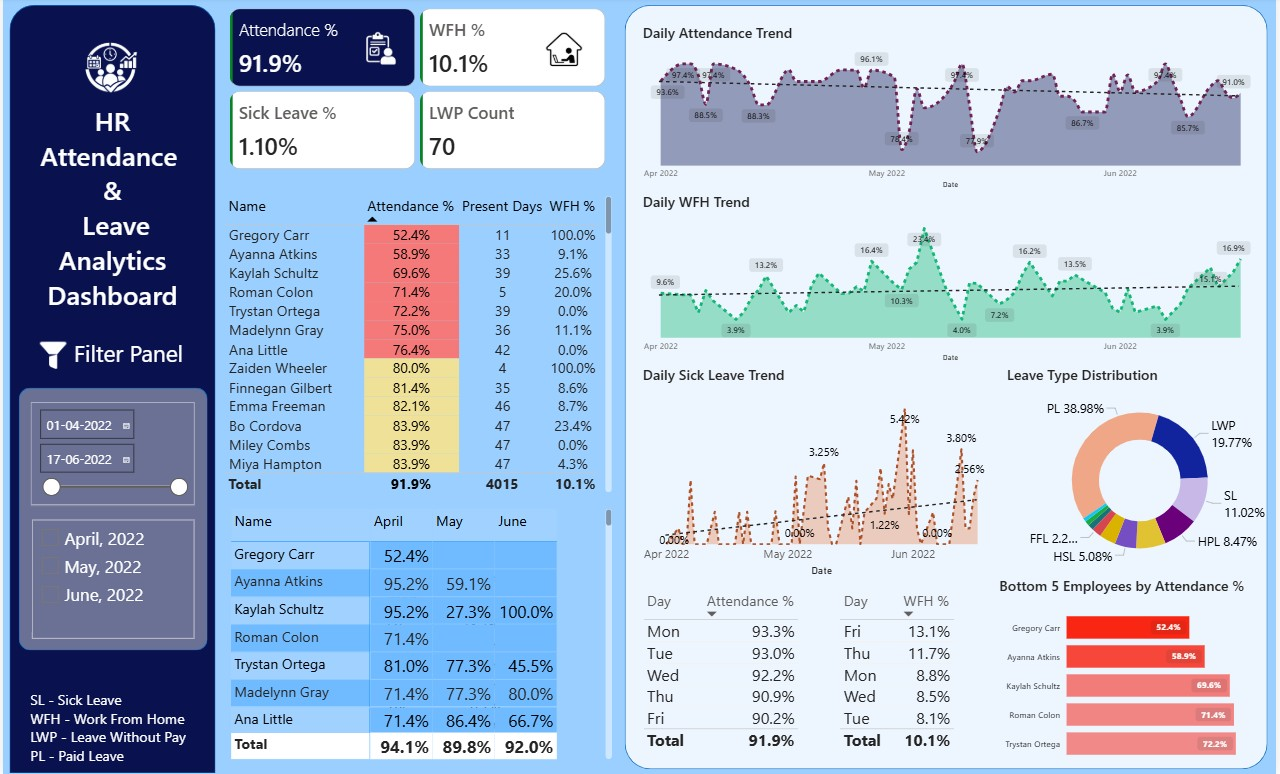

Layout of this report page (visuals, bound fields, positions):
{"tool":"powerbi","page":{"name":"Presence Insights","canvas":[1800,1100],"ordinal":0},"visuals":[{"type":"shape","box":[879.3,11.2,909.2,1081],"z":0},{"type":"shape","box":[9.3,11.2,291.2,1086.6],"z":1000},{"type":"shape","box":[22.9,552.9,267,371.5],"z":2000},{"type":"tableEx","fields":{"Values":["Final Data.Name","Measures (2).Attendace %","Measures (2).Present Days","Measures (2).WFH %"]},"box":[308.1,276.3,558.2,429.4],"z":3000},{"type":"slicer","fields":{"Values":["Final Data.MMM YY"]},"box":[41.5,739.6,229.6,168],"z":4000},{"type":"areaChart","title":"Daily WFH Trend","fields":{"Category":["Final Data.MMM YY","Final Data.Date"],"Y":["Measures (2).WFH %"]},"box":[899.9,276.3,879.3,244.6],"z":5000},{"type":"areaChart","title":"Daily Attendance Trend ","fields":{"Category":["Final Data.WeekNo","Final Data.Date"],"Y":["Measures (2).Attendace %"]},"box":[899.9,37.3,879.3,239],"z":6000},{"type":"slicer","fields":{"Values":["Final Data.Date"]},"box":[39.7,573.4,231.5,145.6],"z":7000},{"type":"areaChart","title":"Daily Sick Leave Trend","fields":{"Category":["Final Data.MMM YY","Final Data.Date"],"Y":["Measures (2).SL %"]},"box":[899.9,520.9,515.3,302.5],"z":8000},{"type":"textbox","box":[33.6,974.6,265.1,125.1],"z":9000},{"type":"tableEx","fields":{"Values":["Final Data.day of week","Measures (2).Attendace %"]},"box":[899.9,834.5,259.5,265.1],"z":10000},{"type":"tableEx","fields":{"Values":["Final Data.day of week","Measures (2).WFH %"]},"box":[532.1,802.8,324.9,296.8],"z":11000},{"type":"donutChart","title":"Leave Type Distribution","fields":{"Category":["Final Data.Leave Type"],"Y":["Measures IMP.Leave Count"]},"box":[1415.2,520.9,384.6,298.7],"z":12000},{"type":"pivotTable","fields":{"Rows":["Final Data.Name"],"Columns":["Final Data.MMM YY.Variation.Date Hierarchy.Month"],"Values":["Measures IMP.Attendance %"]},"box":[317.4,718.8,548.9,364.1],"z":13000},{"type":"clusteredBarChart","title":"Bottom 5 Employees by Attendance %","fields":{"Category":["Final Data.Name"],"Y":["Measures IMP.Attendance %"]},"box":[1404,819.6,384.6,274.4],"z":14000},{"type":"cardVisual","fields":{"Data":["Measures IMP.Attendance %","Measures IMP.WFH %","Measures IMP.SL %","Measures IMP.LWP Count"]},"box":[315.5,11.2,541.4,239],"z":15000},{"type":"textbox","box":[24.3,143.8,261.4,332.3],"z":16000},{"type":"tableEx","fields":{"Values":["Final Data.day of week","Measures IMP.WFH %"]},"box":[1178.1,834.5,259.5,265.1],"z":17000},{"type":"textbox","box":[95.2,476.1,265.1,76.5],"z":18000},{"type":"image","box":[46.7,476.1,48.5,61.6],"z":19000},{"type":"image","box":[761.7,37.3,67.2,72.8],"z":20000},{"type":"image","box":[472.3,14.9,121.4,119.5],"z":21000},{"type":"image","box":[95.2,50.4,121.4,106.4],"z":22000}]}

Visuals, with their boxes in screenshot pixels (x1, y1, x2, y2), scaled from the page's 1800x1100 canvas onto the 1280x774 screenshot:
shape: bbox(625, 8, 1272, 769)
shape: bbox(7, 8, 214, 772)
shape: bbox(16, 389, 206, 650)
tableEx - Final Data.Name x Measures (2).Attendace %: bbox(219, 194, 616, 497)
slicer - Final Data.MMM YY: bbox(30, 520, 193, 639)
"Daily WFH Trend" areaChart: bbox(640, 194, 1265, 367)
"Daily Attendance Trend " areaChart: bbox(640, 26, 1265, 194)
slicer - Final Data.Date: bbox(28, 403, 193, 506)
"Daily Sick Leave Trend" areaChart: bbox(640, 367, 1006, 579)
textbox: bbox(24, 686, 212, 773)
tableEx - Final Data.day of week x Measures (2).Attendace %: bbox(640, 587, 824, 773)
tableEx - Final Data.day of week x Measures (2).WFH %: bbox(378, 565, 609, 773)
"Leave Type Distribution" donutChart: bbox(1006, 367, 1279, 577)
pivotTable - Final Data.Name x Final Data.MMM YY.Variation.Date Hierarchy.Month: bbox(226, 506, 616, 762)
"Bottom 5 Employees by Attendance %" clusteredBarChart: bbox(998, 577, 1272, 770)
cardVisual - Measures IMP.Attendance % x Measures IMP.WFH %: bbox(224, 8, 609, 176)
textbox: bbox(17, 101, 203, 335)
tableEx - Final Data.day of week x Measures IMP.WFH %: bbox(838, 587, 1022, 773)
textbox: bbox(68, 335, 256, 389)
image: bbox(33, 335, 68, 378)
image: bbox(542, 26, 589, 77)
image: bbox(336, 10, 422, 95)
image: bbox(68, 35, 154, 110)
